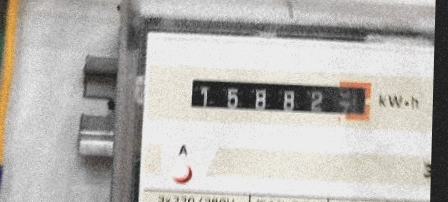1: (197, 83, 212, 105)
2: (308, 88, 325, 112)
5: (225, 84, 240, 109)
7: (338, 96, 350, 113)
8: (281, 87, 296, 112), (253, 87, 267, 110)
screen: (181, 69, 380, 129)
